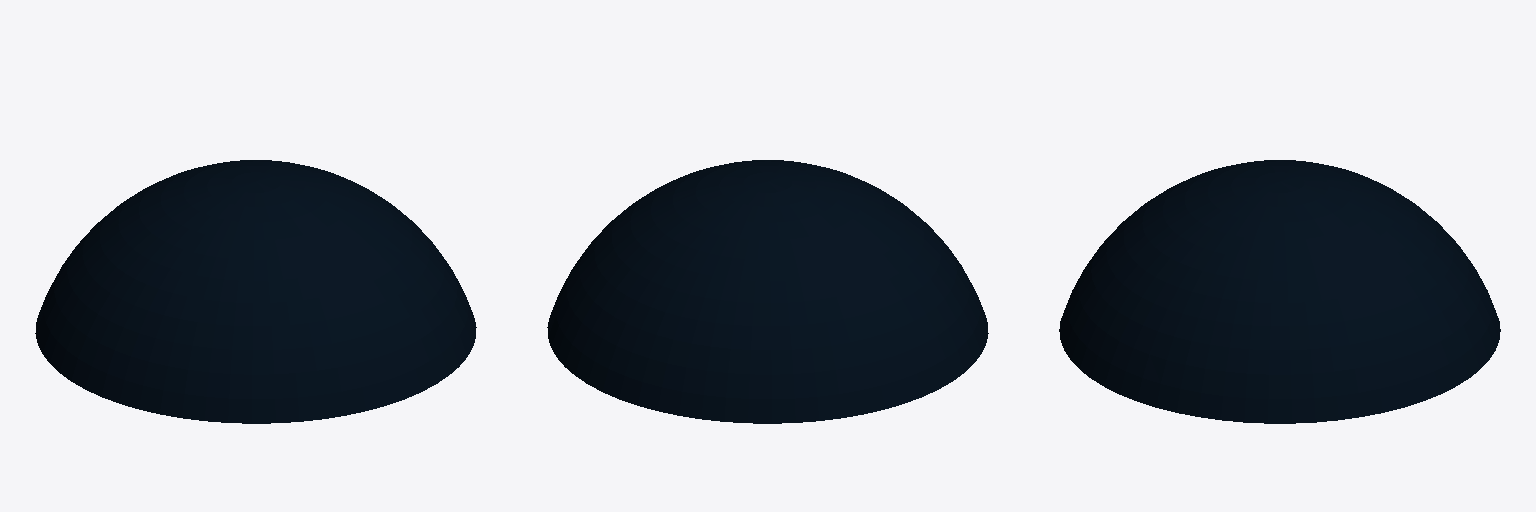
The model's file is cam.obj.
The picture shows the model from 3 angles: view 1: azimuth 30°, elevation 25°; view 2: azimuth 150°, elevation 25°; view 3: azimuth 270°, elevation 25°; orthographic projection.
Visible parts, largest first — view 1: mesh1; view 2: mesh1; view 3: mesh1.
Boxes of the visible parts, <box> form: mesh1: <box>35,160,476,423</box>; mesh1: <box>547,160,988,423</box>; mesh1: <box>1059,160,1500,423</box>.
Size of the model in its own units: 0.0134 by 0.005 by 0.0134.